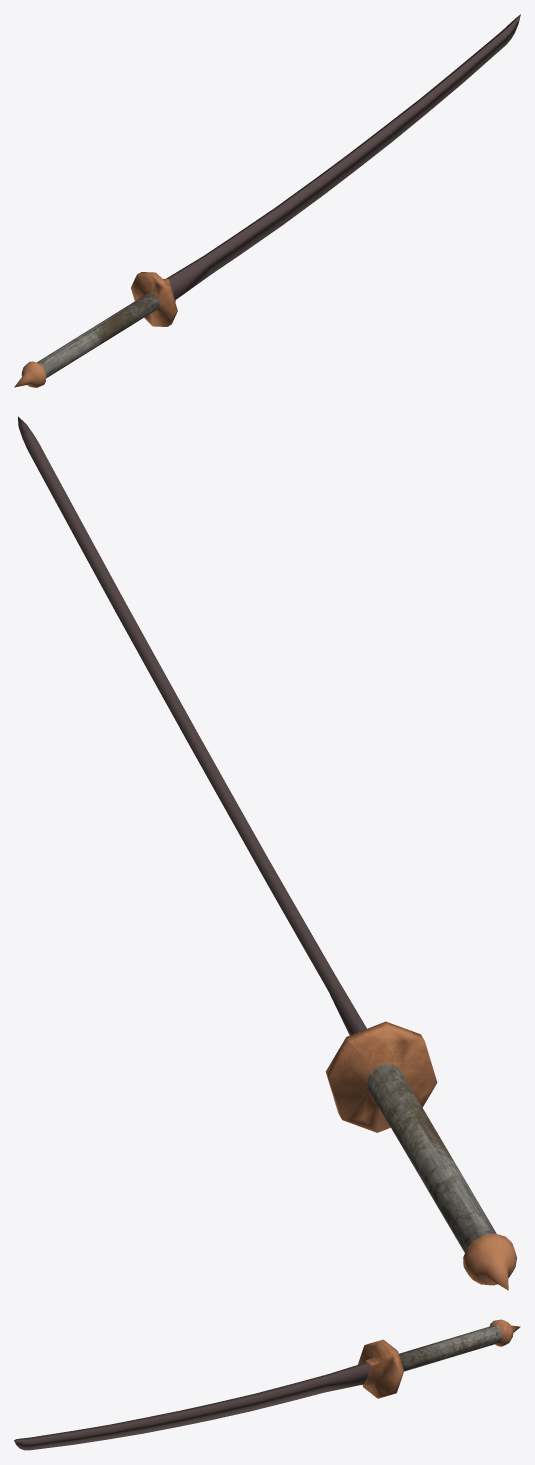
Rendered from Anim_idle_katana_objetos.0042.obj.
3 renders of one model, top to bottom at view 1: azimuth 90°, elevation 25°; view 2: azimuth 150°, elevation 25°; view 3: azimuth 270°, elevation 25°, orthographic. The views are drawn at different scales.
Parts seen in each view (by area): view 1: Katana1; view 2: Katana1; view 3: Katana1.
Part boxes in pixels (bbox=[...]): Katana1: bbox=[14, 14, 520, 387]; Katana1: bbox=[18, 416, 516, 1290]; Katana1: bbox=[14, 1319, 520, 1450].
Bounding box in the file's own units: 3.95 × 1.05 × 3.48.
